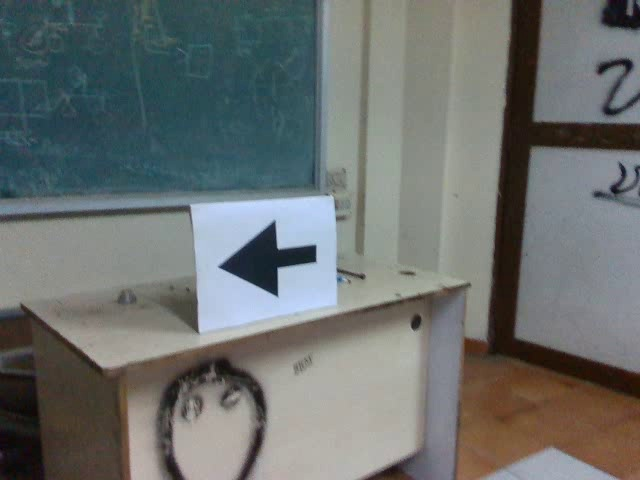Left: (206, 215, 320, 301)
